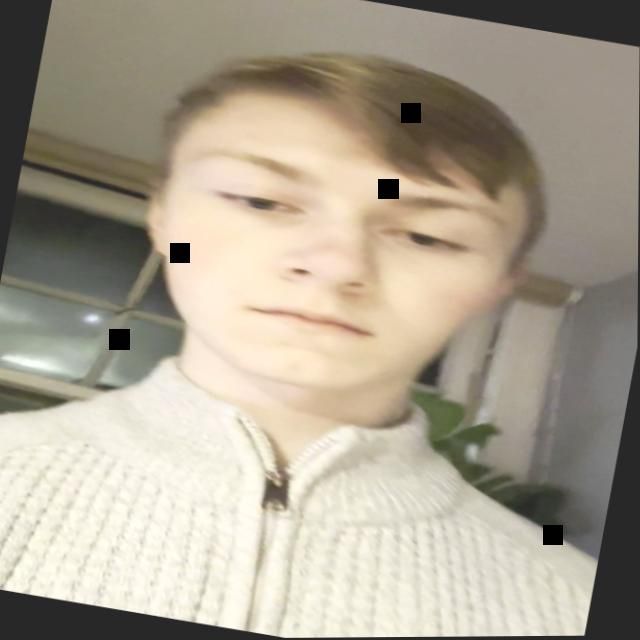NO-Mask: (128, 59, 549, 426)
